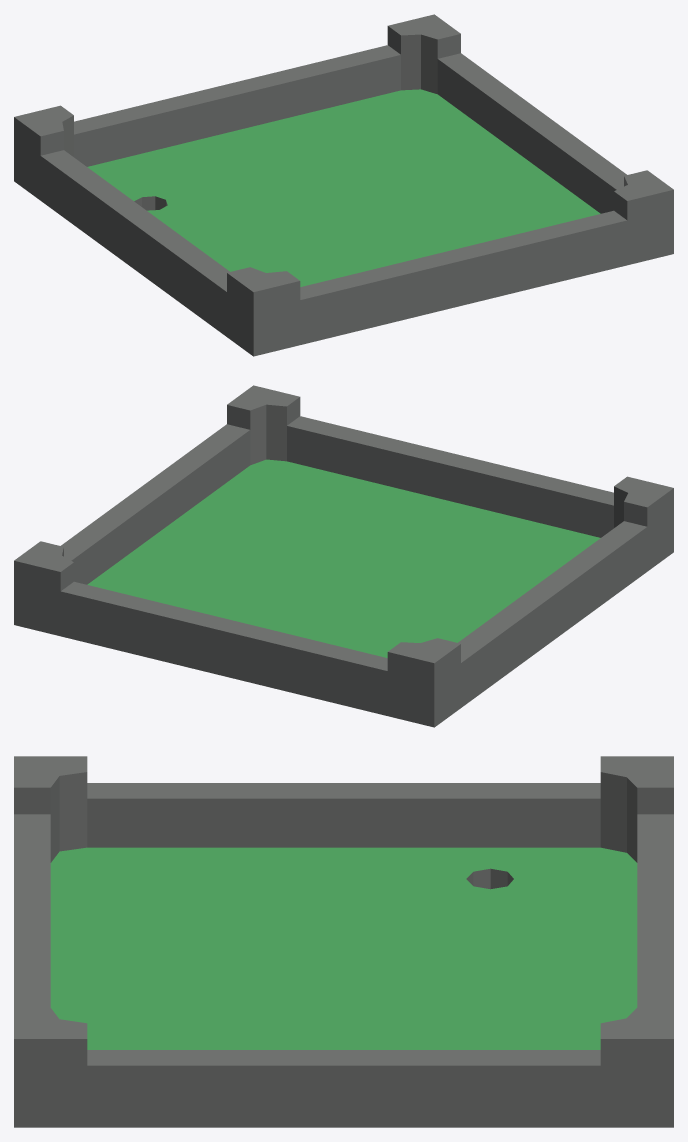
The model's file is testhole2.fbx.
The picture shows the model from 3 angles, top to bottom: view 1: azimuth 30°, elevation 25°; view 2: azimuth 150°, elevation 25°; view 3: azimuth 270°, elevation 25°; orthographic projection. The views are drawn at different scales.
Parts seen in each view (by area): view 1: Cube; view 2: Cube; view 3: Cube.
Boxes of the visible parts, x1,y1,x2,y2 form: Cube: [14, 14, 673, 356]; Cube: [14, 385, 673, 727]; Cube: [14, 756, 673, 1127].
Bounding box in the file's own units: 1039 × 206 × 1025.
